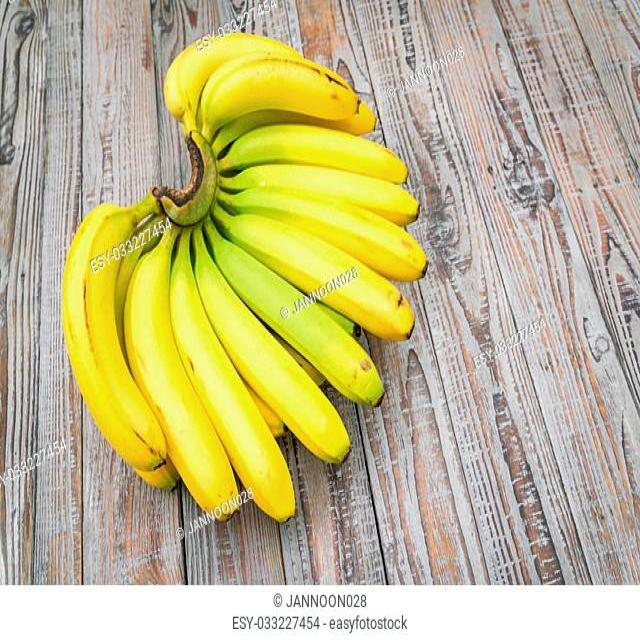banana: (59, 28, 431, 527)
